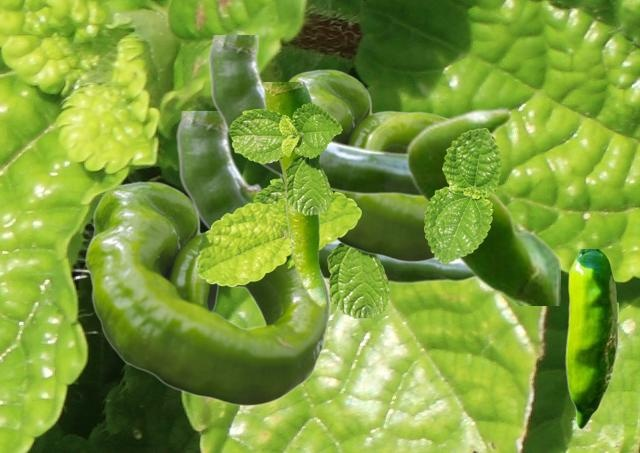green_chili: (85, 181, 329, 405), (176, 111, 475, 283), (208, 35, 420, 196), (279, 69, 445, 261), (405, 107, 559, 304), (263, 82, 325, 306), (565, 249, 617, 428)
